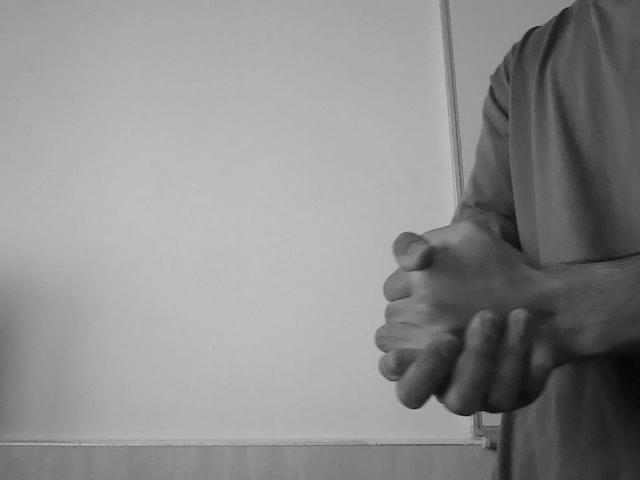friend: (374, 217, 569, 420)
